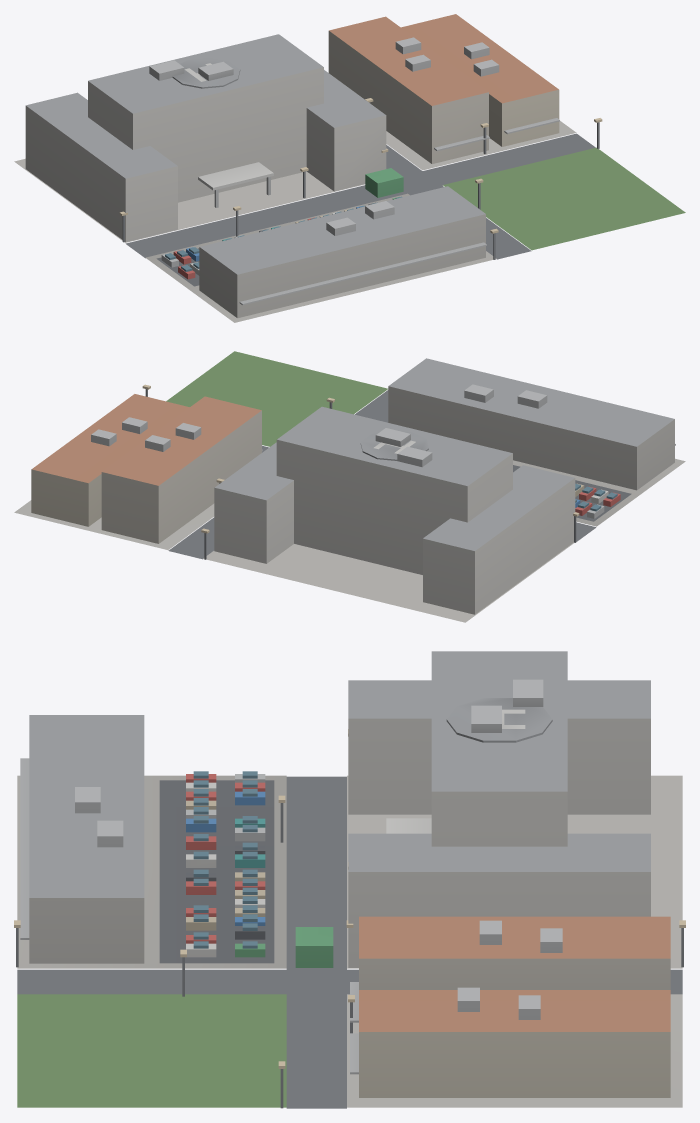
The model's file is district_hospital_hill.glb.
3 views of the same model, one above another, from view 1: azimuth 30°, elevation 25°; view 2: azimuth 150°, elevation 25°; view 3: azimuth 270°, elevation 25° (orthographic). The views are drawn at different scales.
Visible parts, largest first — view 1: district_hospital_hill; view 2: district_hospital_hill; view 3: district_hospital_hill.
Boxes of the visible parts, <box> form: district_hospital_hill: <box>14,14,685,322</box>; district_hospital_hill: <box>14,351,685,622</box>; district_hospital_hill: <box>14,651,685,1108</box>.
Size of the model in its own units: 105 by 23.75 by 88.9.
